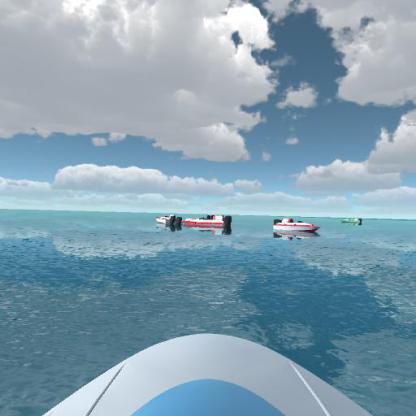usv0: (340, 212, 368, 230)
usv3: (271, 213, 325, 239), (183, 212, 235, 235), (152, 210, 185, 230)
